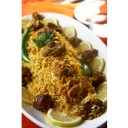briyani: (23, 15, 100, 115)
